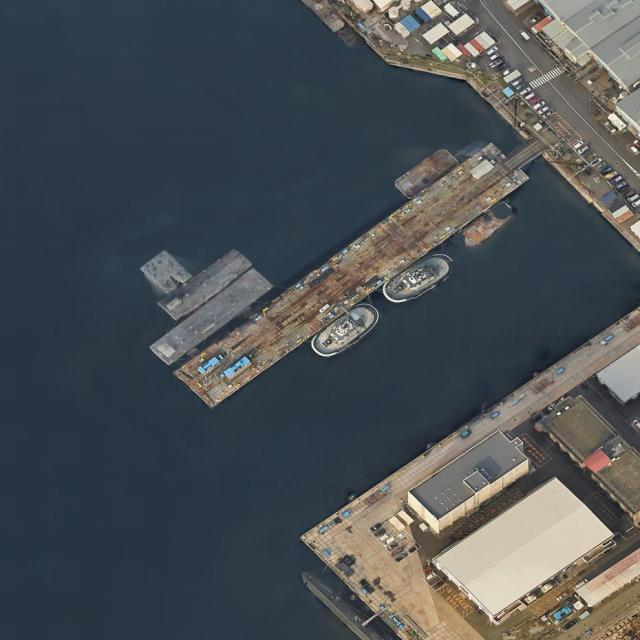Dock: (171, 122, 545, 416)
Hovercraft: (306, 294, 386, 365), (378, 244, 460, 311)
